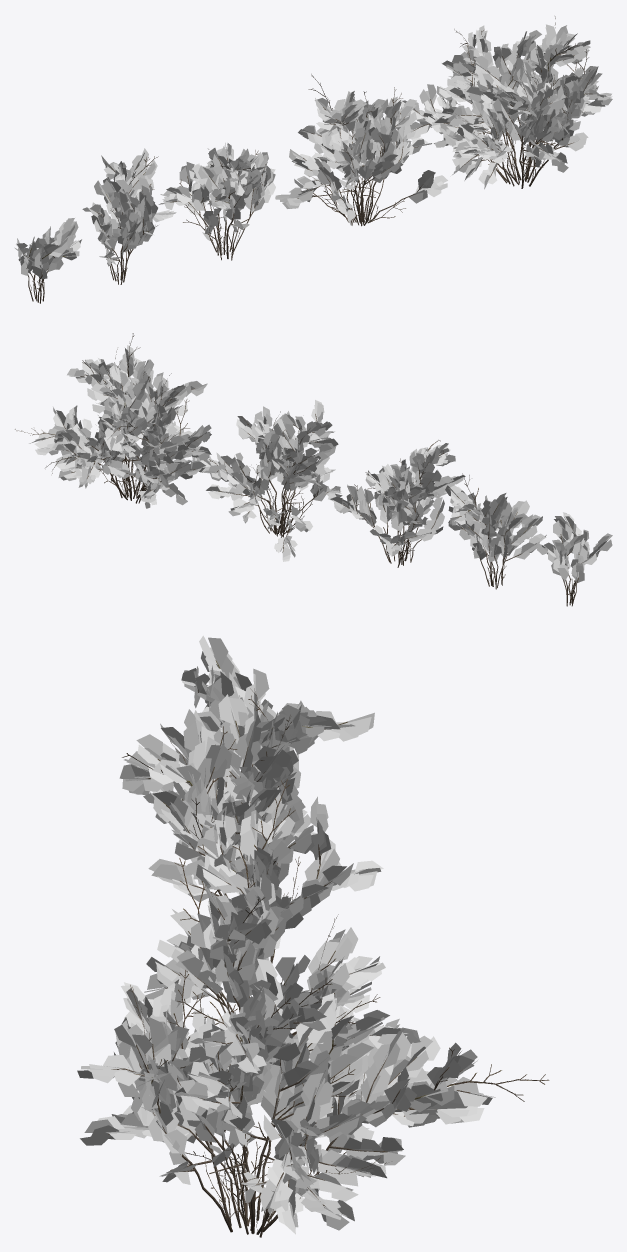
The model's file is wild_rooibos_bush.fbx.
3 renders of one model, top to bottom at view 1: azimuth 30°, elevation 25°; view 2: azimuth 150°, elevation 25°; view 3: azimuth 270°, elevation 25°, orthographic. The views are drawn at different scales.
Visible parts, largest first — view 1: wild_rooibos_bush_a, wild_rooibos_bush_b, wild_rooibos_bush_c, wild_rooibos_bush_d, wild_rooibos_bush_e; view 2: wild_rooibos_bush_a, wild_rooibos_bush_b, wild_rooibos_bush_c, wild_rooibos_bush_d, wild_rooibos_bush_e; view 3: wild_rooibos_bush_a, wild_rooibos_bush_b, wild_rooibos_bush_c, wild_rooibos_bush_d, wild_rooibos_bush_e.
Part boxes in pixels (left/top/right/bottom): wild_rooibos_bush_a: left=397, top=16, right=612, bottom=189; wild_rooibos_bush_b: left=275, top=74, right=447, bottom=226; wild_rooibos_bush_c: left=158, top=143, right=275, bottom=260; wild_rooibos_bush_d: left=82, top=148, right=176, bottom=284; wild_rooibos_bush_e: left=14, top=218, right=81, bottom=303; wild_rooibos_bush_a: left=15, top=333, right=218, bottom=508; wild_rooibos_bush_b: left=201, top=400, right=342, bottom=561; wild_rooibos_bush_c: left=328, top=440, right=465, bottom=567; wild_rooibos_bush_d: left=445, top=473, right=546, bottom=589; wild_rooibos_bush_e: left=537, top=512, right=612, bottom=606; wild_rooibos_bush_a: left=77, top=958, right=549, bottom=1237; wild_rooibos_bush_b: left=142, top=779, right=385, bottom=1038; wild_rooibos_bush_c: left=119, top=718, right=383, bottom=963; wild_rooibos_bush_d: left=160, top=668, right=374, bottom=811; wild_rooibos_bush_e: left=181, top=635, right=272, bottom=755.
Bounding box in the file's own units: 228 × 54.13 × 84.34.
